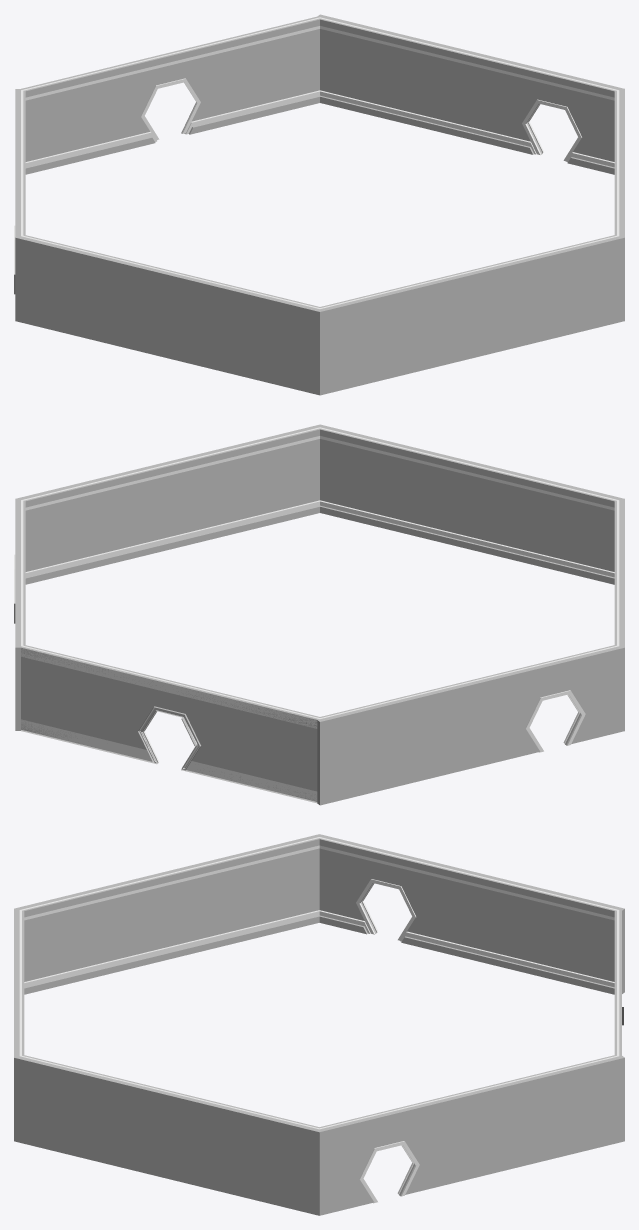
The model's file is Paredes_Monitoramento_SegundoAndar.gltf.
3 views of the same model, one above another, from view 1: azimuth 30°, elevation 25°; view 2: azimuth 150°, elevation 25°; view 3: azimuth 270°, elevation 25° (orthographic).
Visible parts, largest first — view 1: PortalPorta.003; view 2: PortalPorta.003; view 3: PortalPorta.003.
Part boxes in pixels (<box>): PortalPorta.003: <box>14,14,624,395</box>; PortalPorta.003: <box>14,424,624,805</box>; PortalPorta.003: <box>14,834,624,1215</box>.
Bounding box in the file's own units: 30.58 × 4.05 × 26.48.
1 material, 1 textured.
